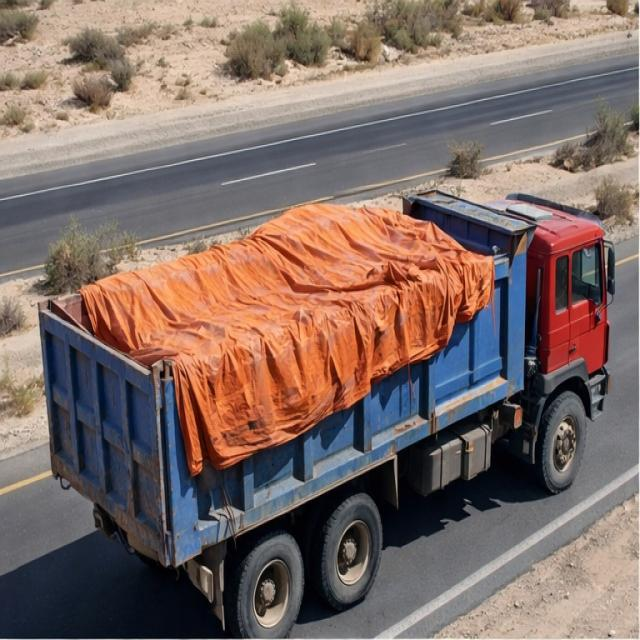trailer: (41, 185, 536, 402)
truck: (30, 172, 626, 636)
